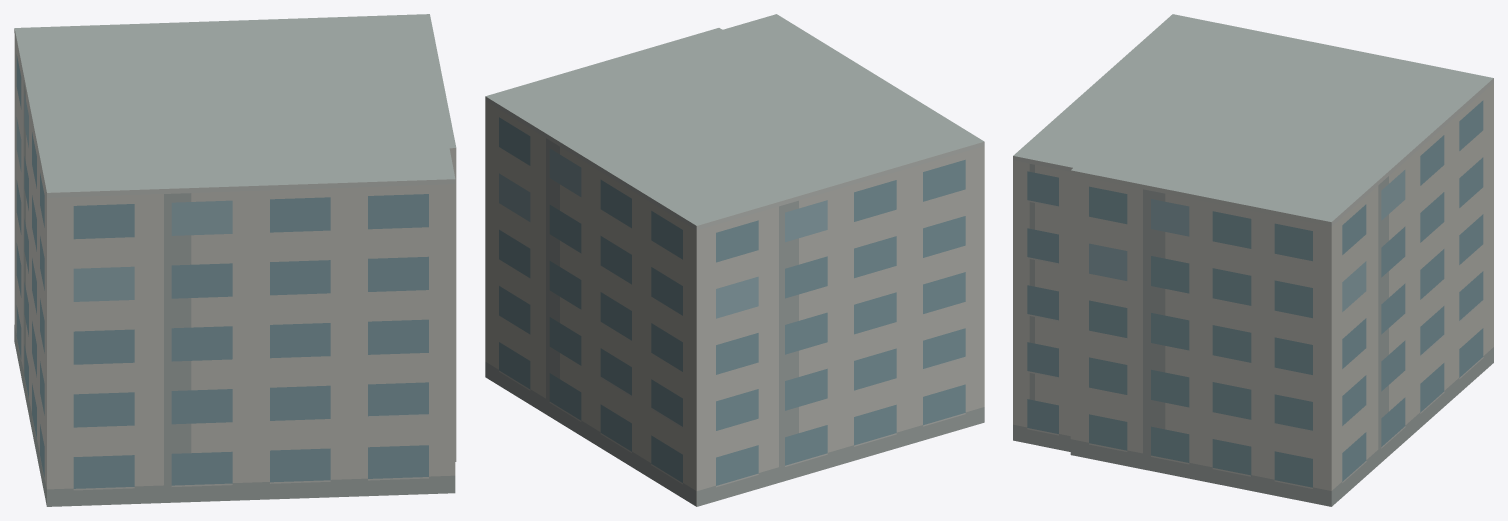
Rendered from survey-upis-33023751.glb.
3 views of the same model, side by side, from view 1: azimuth 30°, elevation 25°; view 2: azimuth 150°, elevation 25°; view 3: azimuth 270°, elevation 25° (orthographic). The views are drawn at different scales.
Visible parts, largest first — view 1: survey-upis-33023751.tmp; view 2: survey-upis-33023751.tmp; view 3: survey-upis-33023751.tmp.
Part boxes in pixels (x1,y1,x2,y2): survey-upis-33023751.tmp: [14, 14, 456, 506]; survey-upis-33023751.tmp: [485, 14, 984, 506]; survey-upis-33023751.tmp: [1013, 14, 1493, 506].
Bounding box in the file's own units: 23.69 × 15.1 × 23.12.
